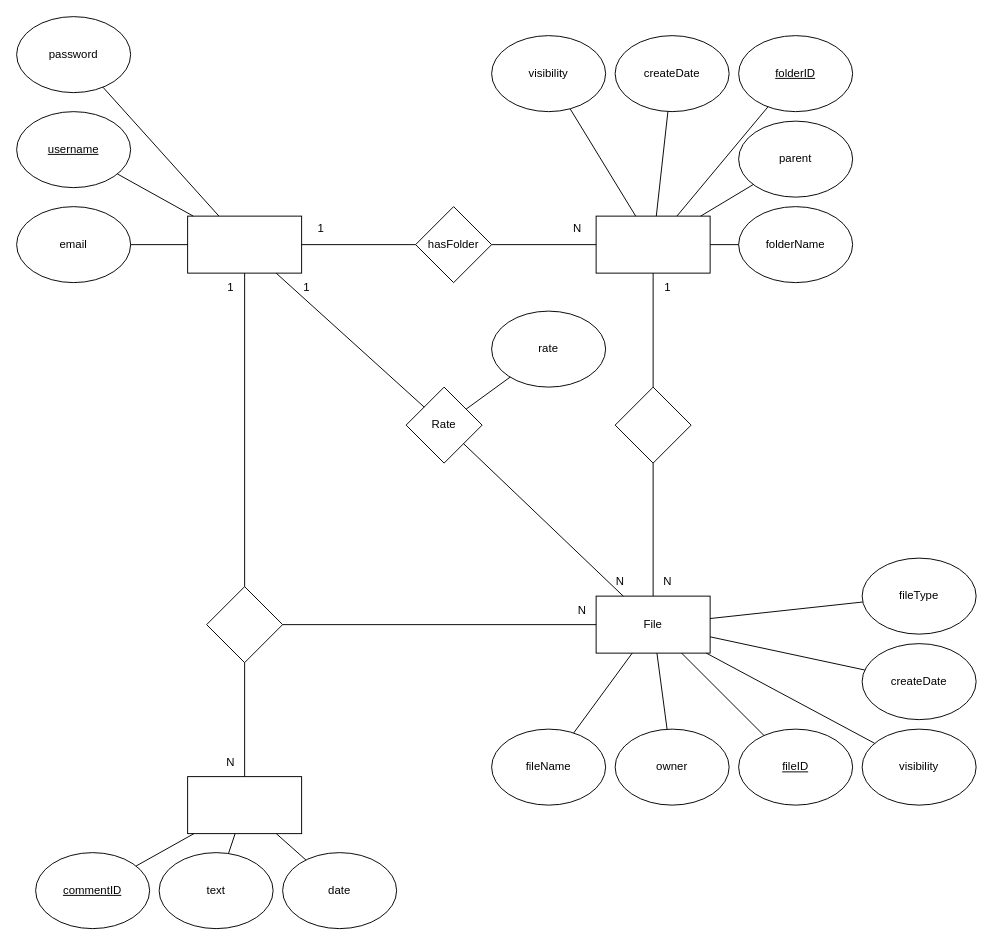
This 993x945 diagram has some shape labels left out. Here are the shapes that lost their labels. From the top down, the centre of each, then its label:
At (x=244, y=244): "User".
At (x=652, y=244): "Folder".
At (x=652, y=424): "containsFile".
At (x=244, y=624): "hasComment".
At (x=244, y=805): "Comment".
